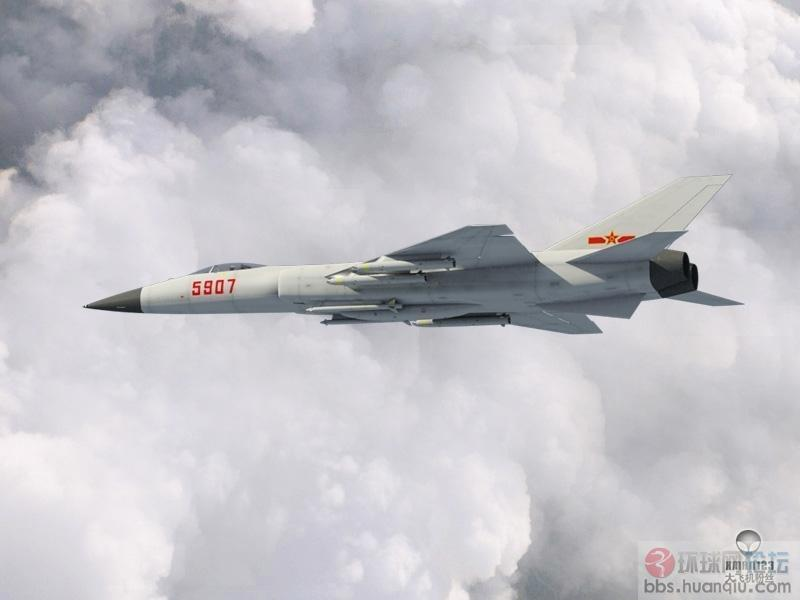airplane: (74, 172, 734, 336)
